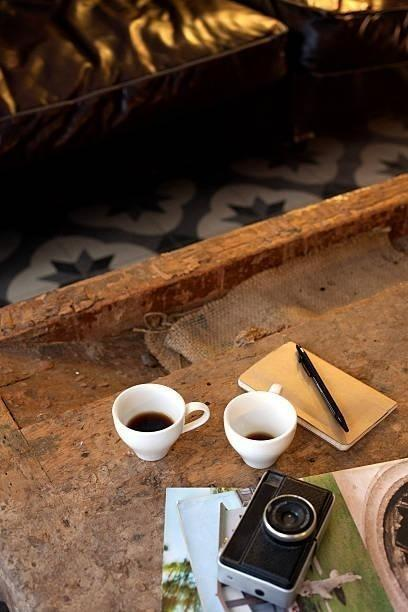cup-handle: (110, 382, 210, 462), (222, 386, 298, 470)
